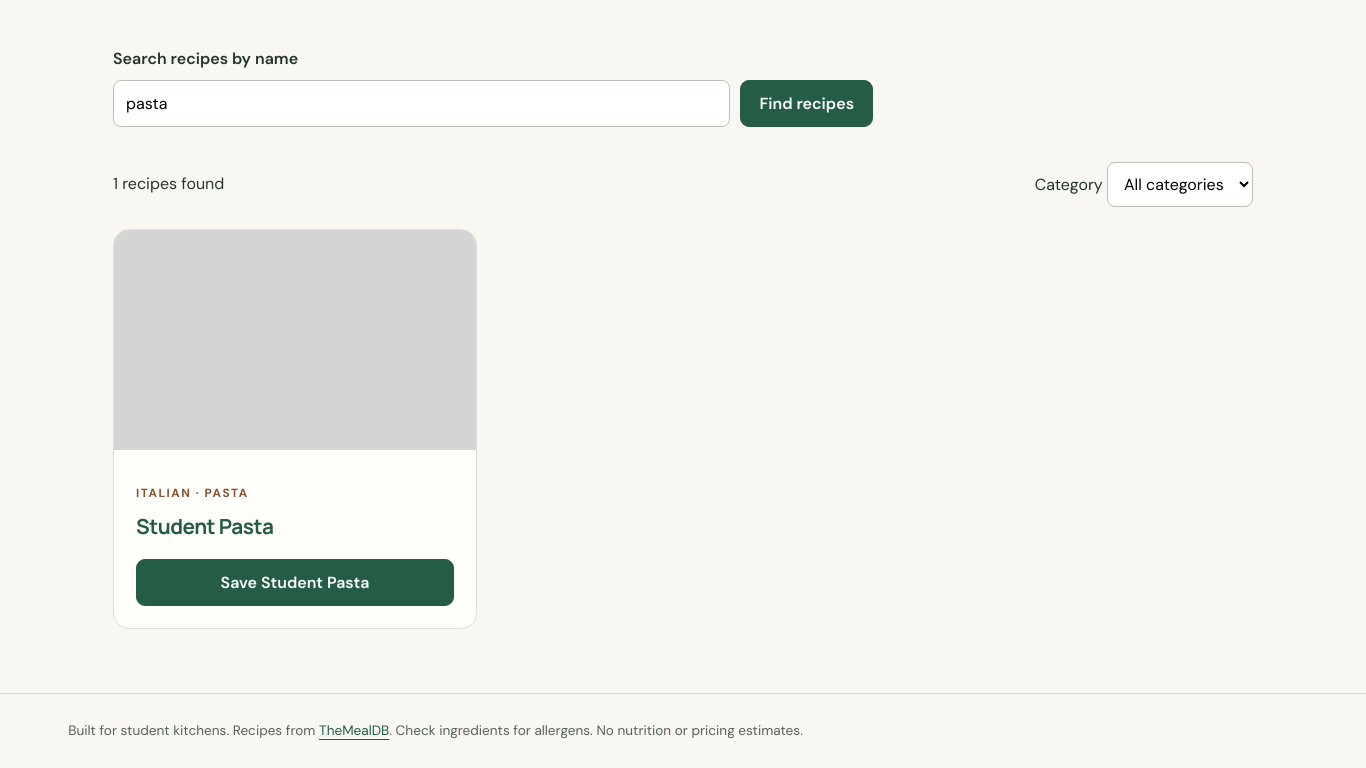
Test: search loads results, saves a recipe and keeps it across navigation
Later steps or results of the test are not shown.
(page scrolled)
Expected: the heading "Student Pasta" is shown, [136,512,273,540]
Click the button "Save Student Pasta": click(295, 582) [136,558,454,606]
(page scrolled)
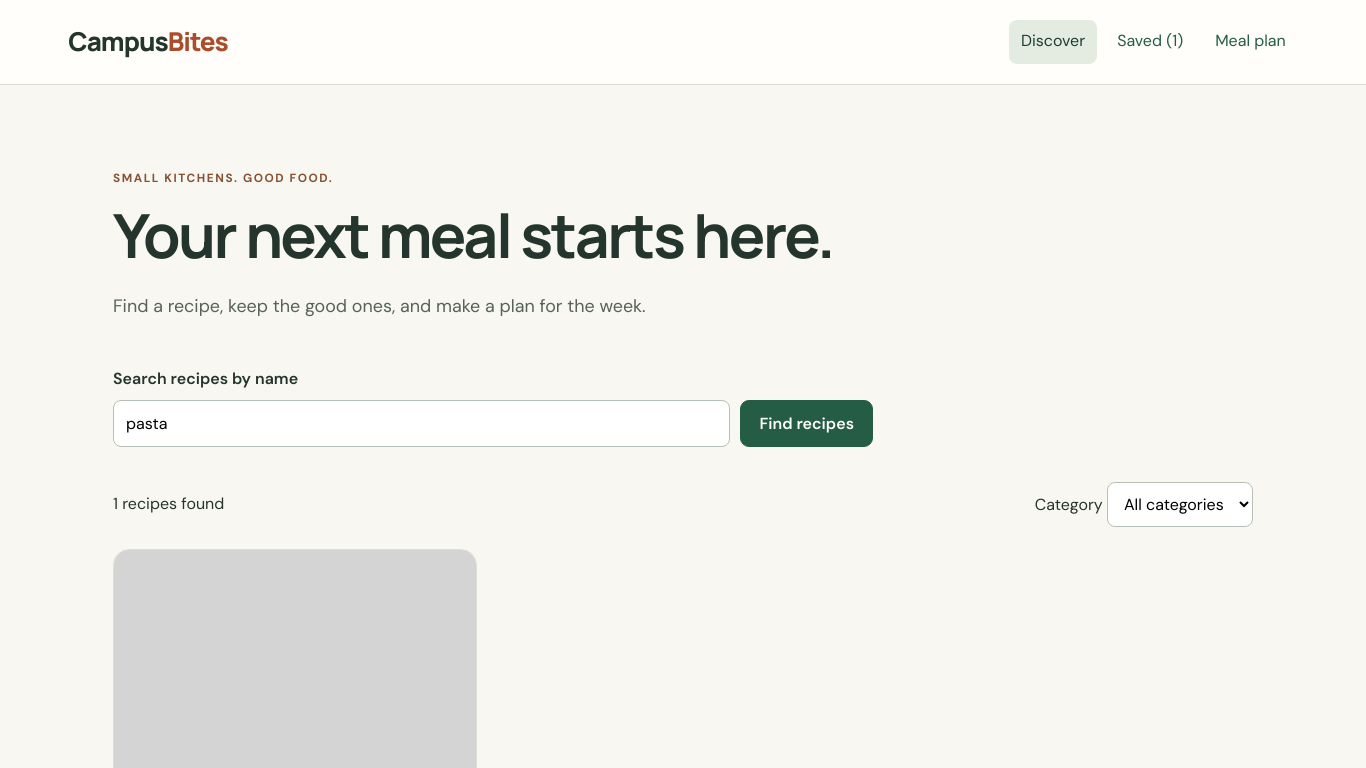
Click the link "Saved (1)": click(1150, 40) [1117,30,1183,51]
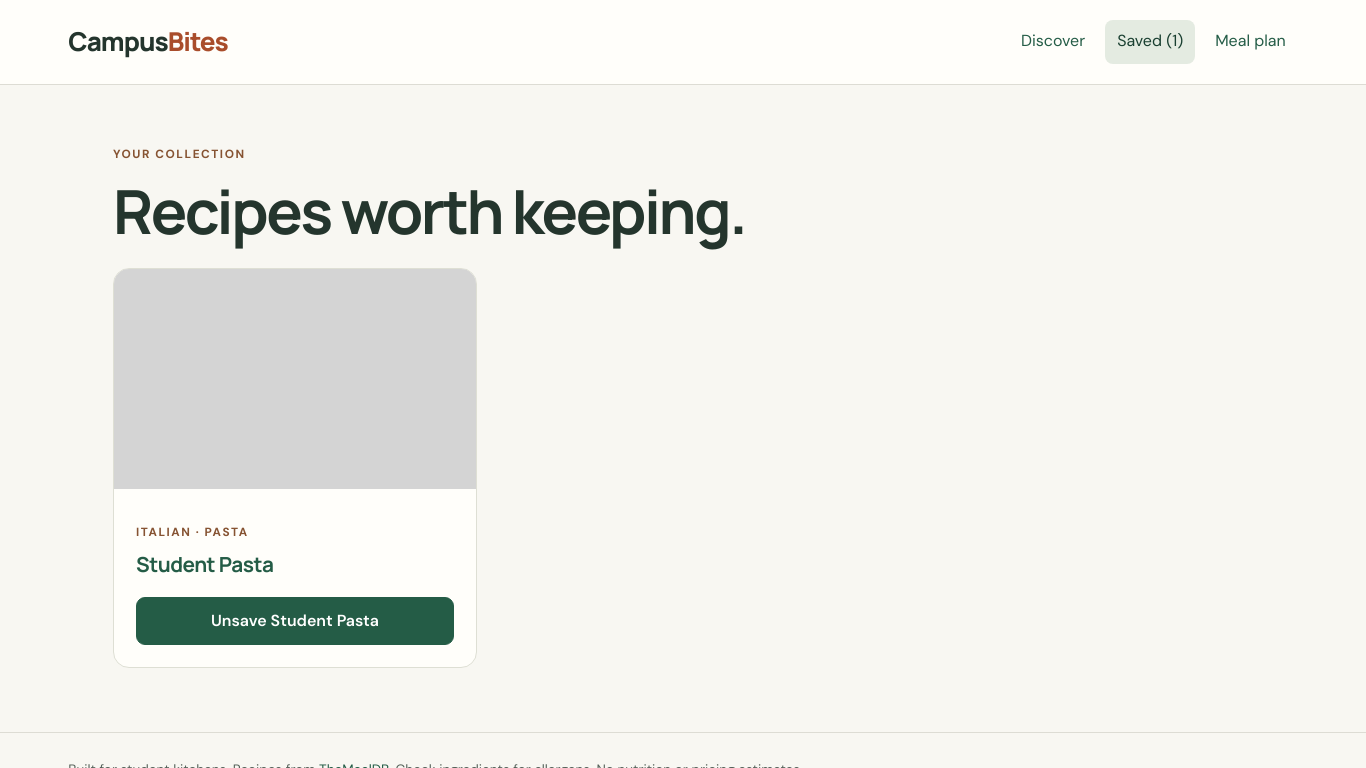
Expected: the heading "Student Pasta" is shown, [136,550,273,578]
Click the button "Unsave Student Pasta": click(295, 621) [136,597,454,645]
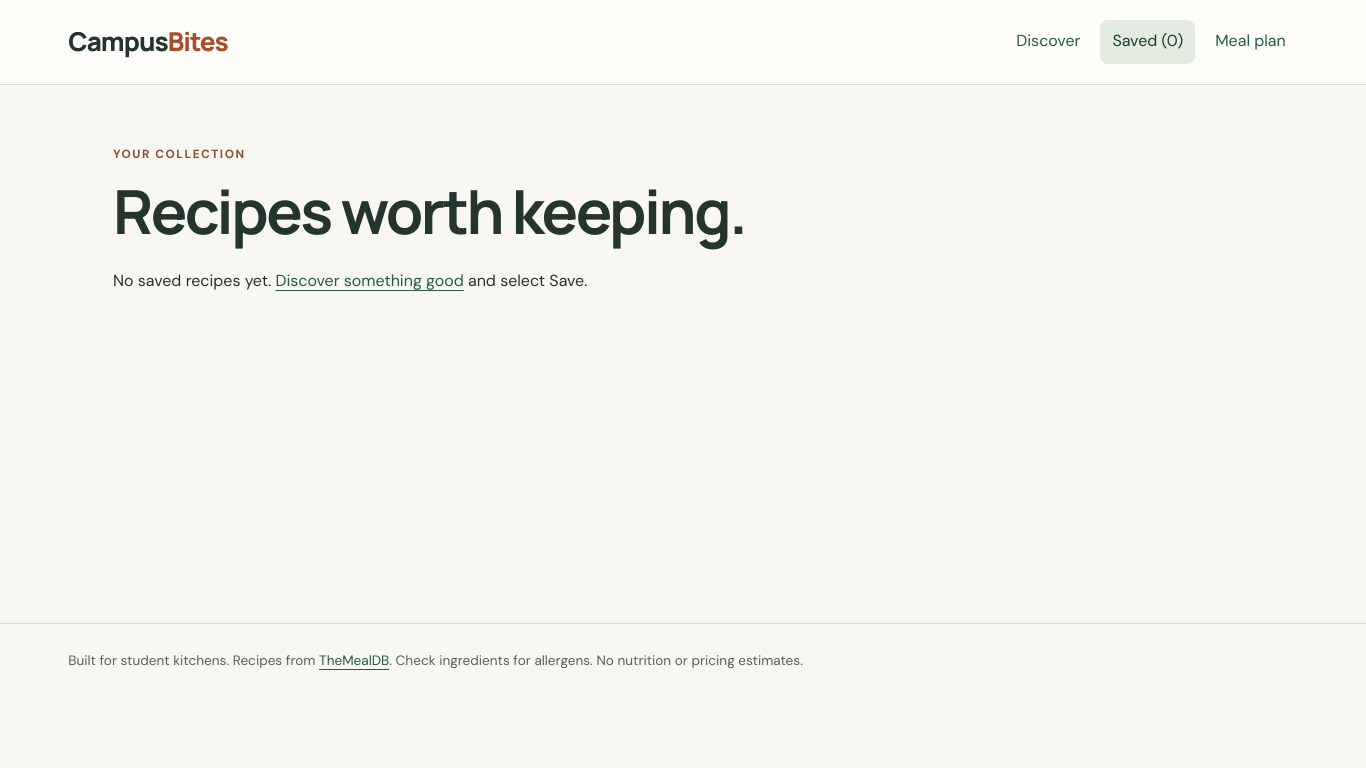
Result: the text "No saved recipes yet" is shown at [113,270,275,291]
